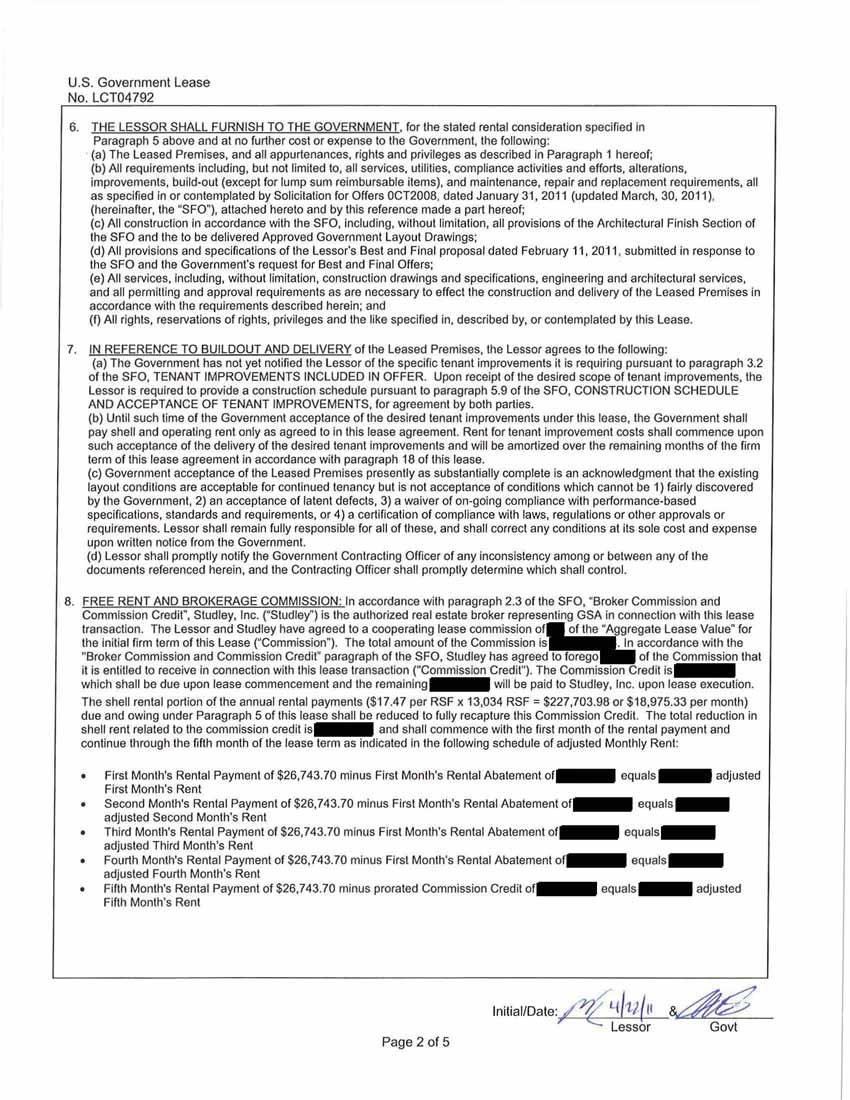handwritten: (559, 979, 758, 1024)
